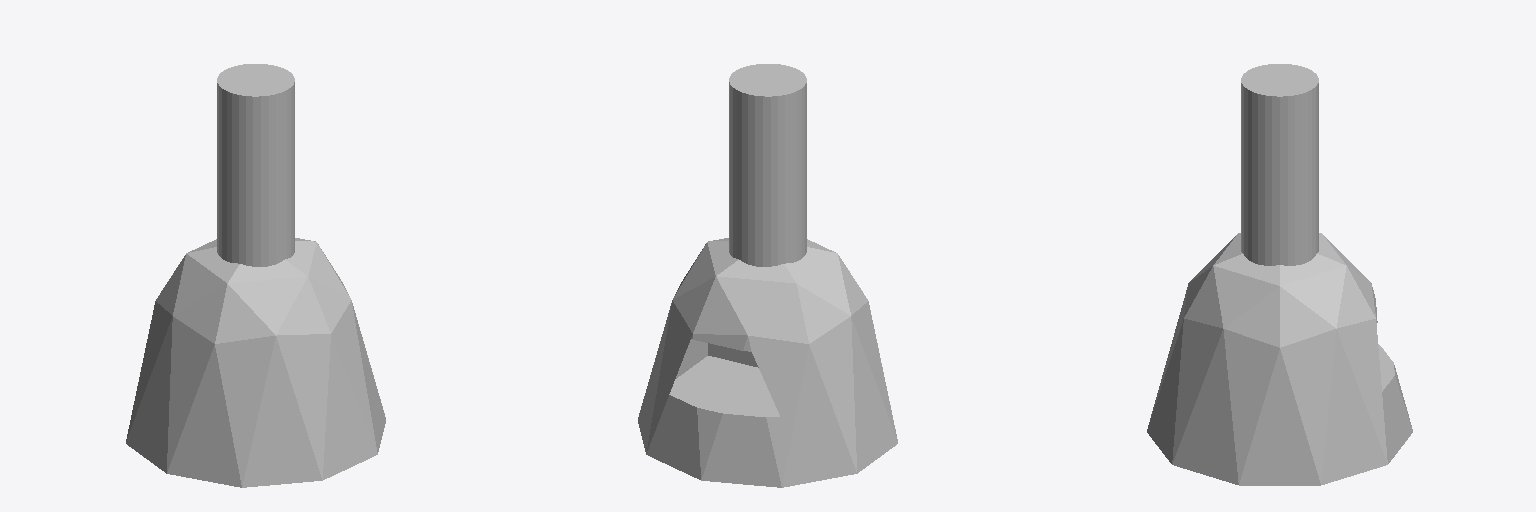
File: furnace.obj
The picture shows the model from 3 angles: view 1: azimuth 30°, elevation 25°; view 2: azimuth 150°, elevation 25°; view 3: azimuth 270°, elevation 25°; orthographic projection.
Parts seen in each view (by area): view 1: Cylinder; view 2: Cylinder; view 3: Cylinder.
Part boxes in pixels (left/top/right/bottom): Cylinder: left=126, top=64, right=385, bottom=487; Cylinder: left=638, top=64, right=897, bottom=487; Cylinder: left=1147, top=64, right=1412, bottom=485.
Bounding box in the file's own units: 1.9 × 2.91 × 2.